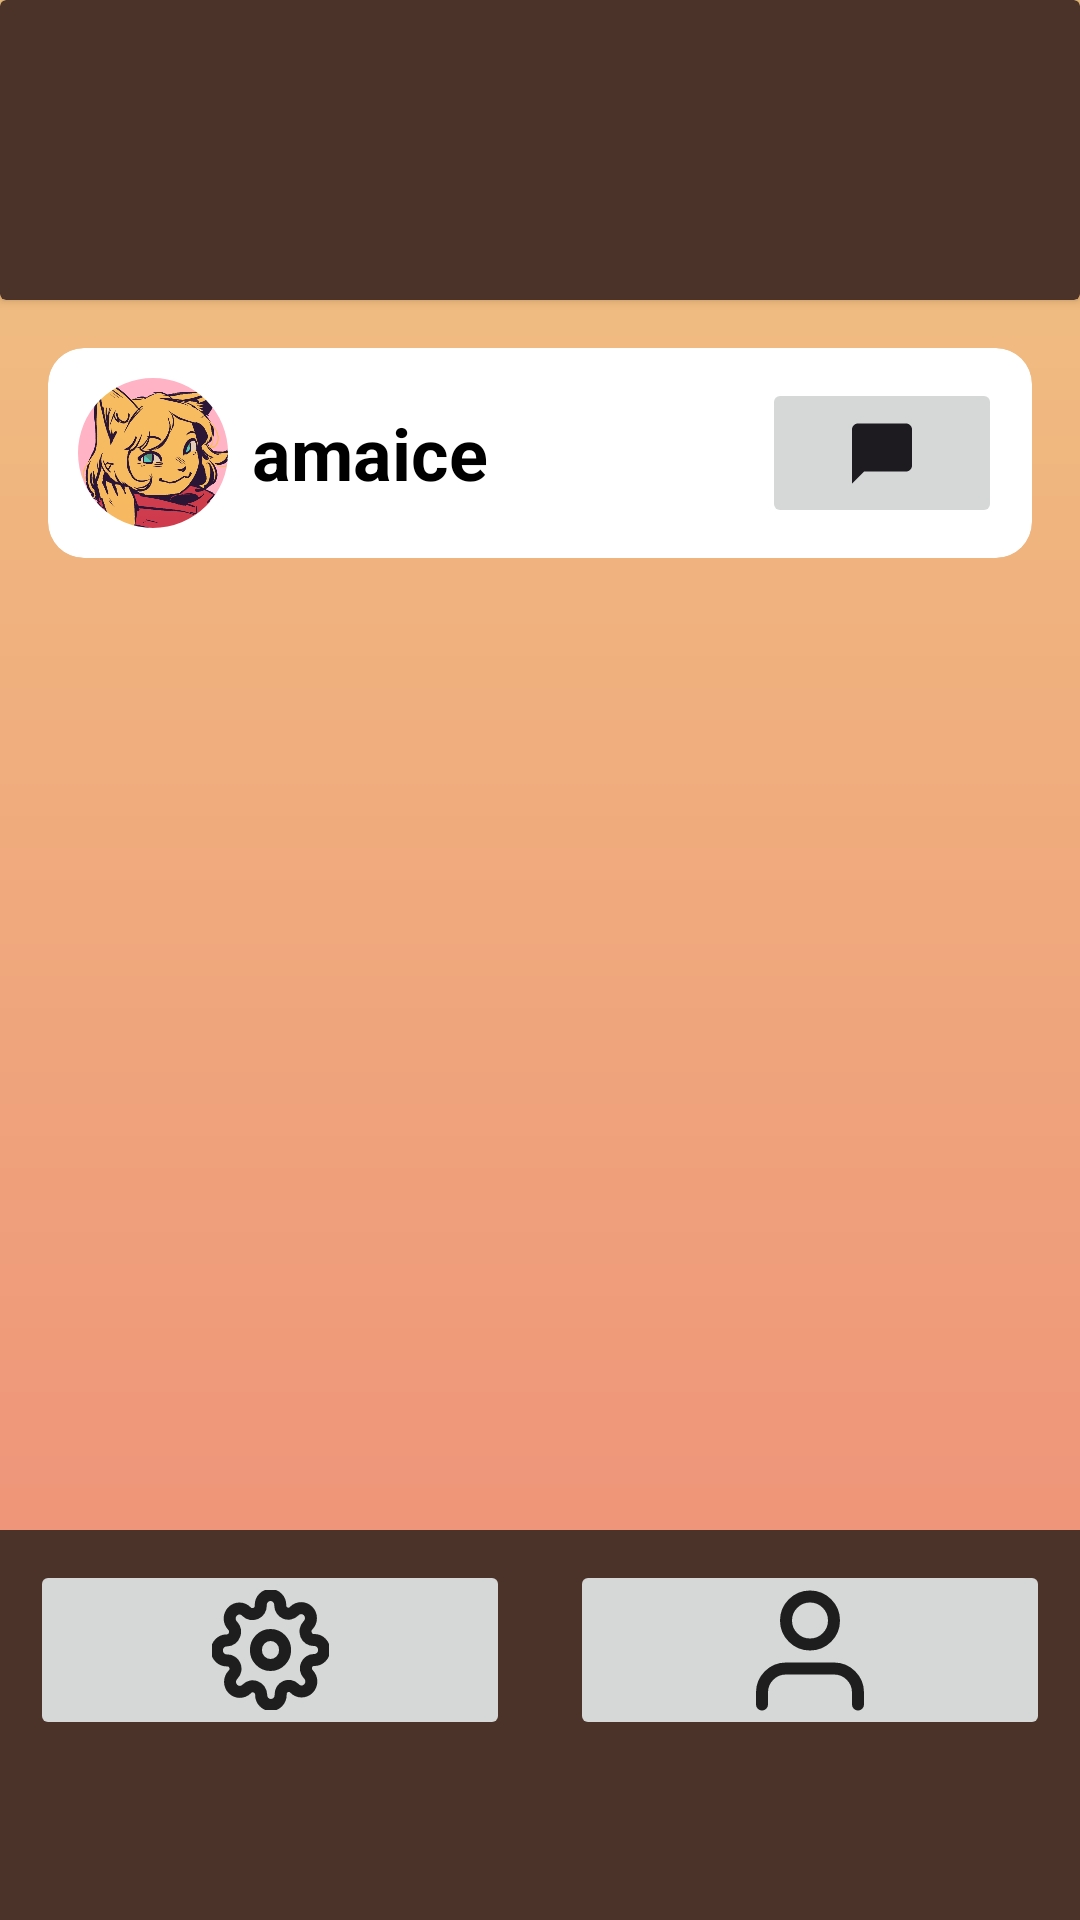

Named icons in this screenshot (1080px×1920px) and their bounding boxes, (x1, y1, x2, y2):
chat bubble: (774, 396, 990, 510)
